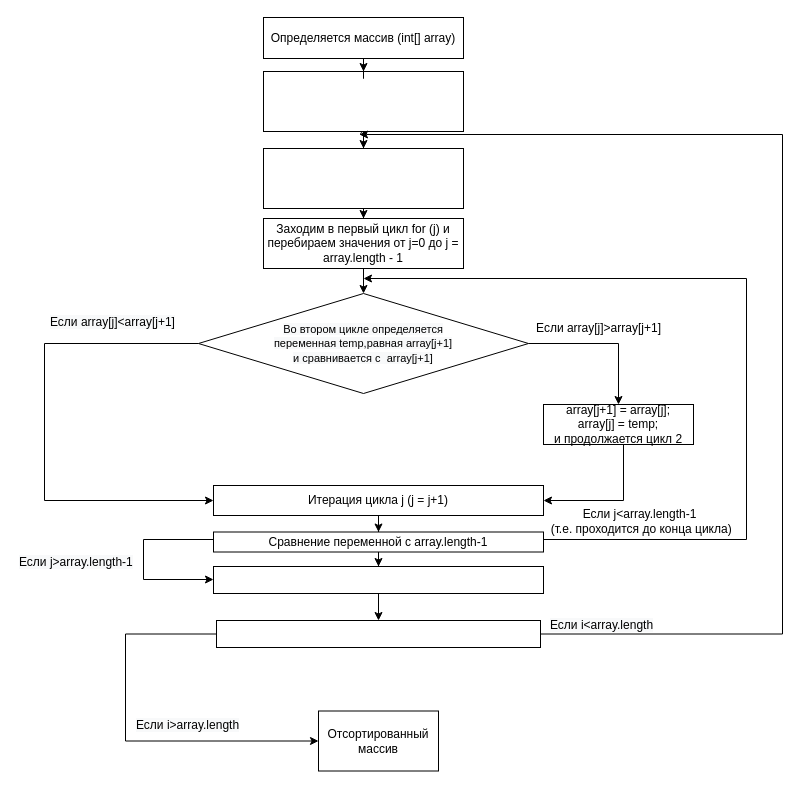
This 808x789 diagram has some shape labels left out. The shapes that lost their labels are listed below. From the top down, each one's centre as x and y in pixels, then its label:
At [363,101]: "Определяются переменные 1 и 2 цикла for (i - для 1 и j - для 2 цикла)".
At [363,178]: "Заходим в первый цикл for (i)".
At [378,580]: "Итерация цикла i (i = i+1)".
At [378,634]: "Сравнение переменной i с array.length".
